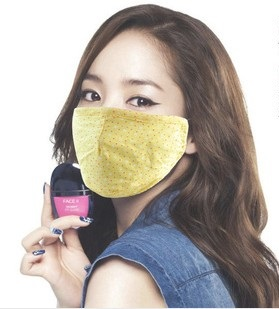face_mask: (74, 33, 183, 194)
